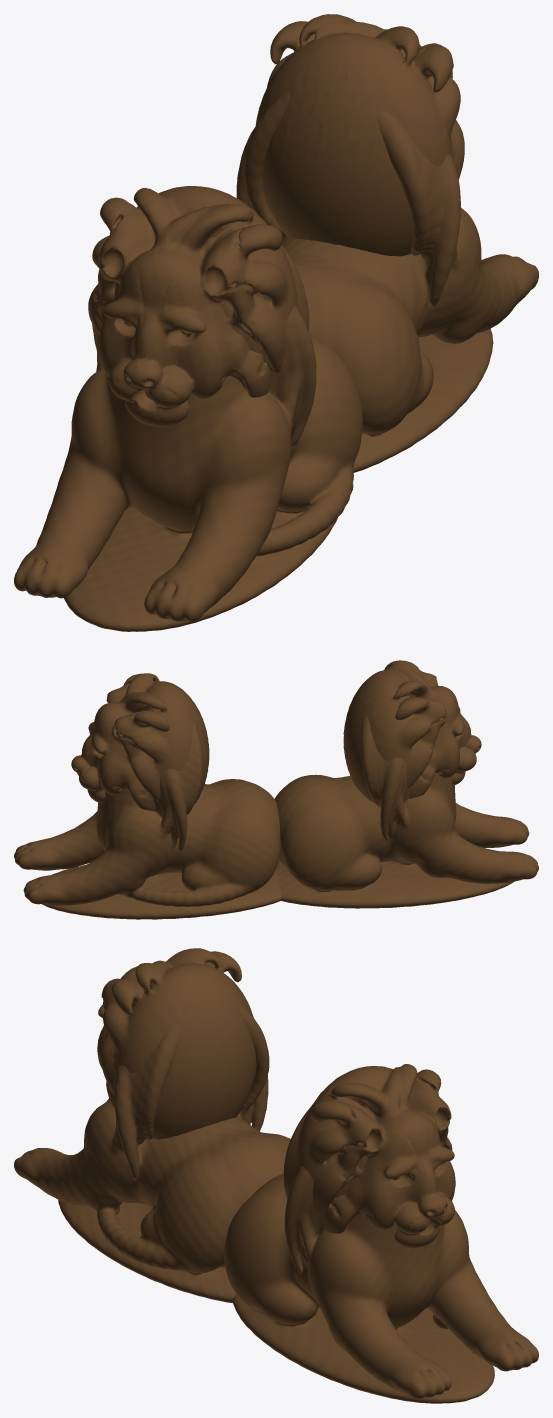
File: sculpture.obj
The picture shows the model from 3 angles, top to bottom: view 1: azimuth 30°, elevation 25°; view 2: azimuth 150°, elevation 25°; view 3: azimuth 270°, elevation 25°; orthographic projection. The views are drawn at different scales.
Visible parts, largest first — view 1: reclining_lions; view 2: reclining_lions; view 3: reclining_lions.
Boxes of the visible parts, x1,y1,x2,y2 form: reclining_lions: (14, 14, 538, 631); reclining_lions: (14, 660, 538, 919); reclining_lions: (14, 948, 538, 1403).
Size of the model in its own units: 51.44 by 25.81 by 42.78.
